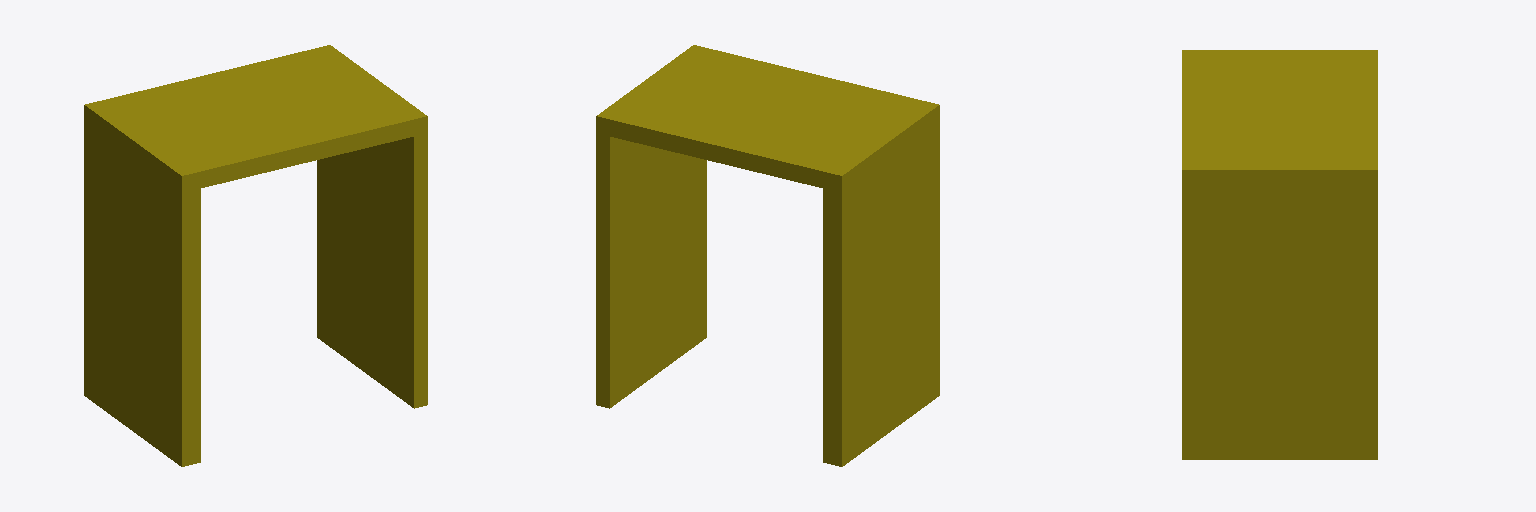
The model's file is table.obj.
The picture shows the model from 3 angles: view 1: azimuth 30°, elevation 25°; view 2: azimuth 150°, elevation 25°; view 3: azimuth 270°, elevation 25°; orthographic projection.
Visible parts, largest first — view 1: tabletable_Cube.005; view 2: tabletable_Cube.005; view 3: tabletable_Cube.005.
Part boxes in pixels (x1,y1,x2,y2): tabletable_Cube.005: (84, 45, 427, 466); tabletable_Cube.005: (596, 45, 939, 466); tabletable_Cube.005: (1182, 50, 1377, 459).
Size of the model in its own units: 11.78 by 13.33 by 8.1.